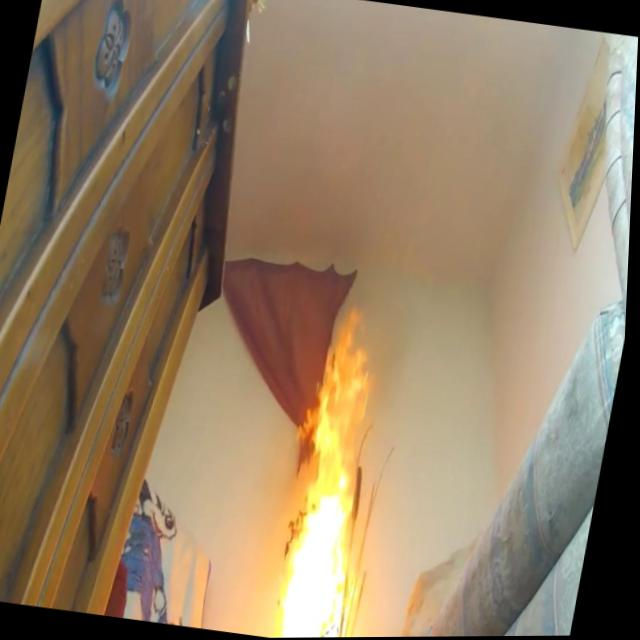fire: (265, 300, 414, 638)
